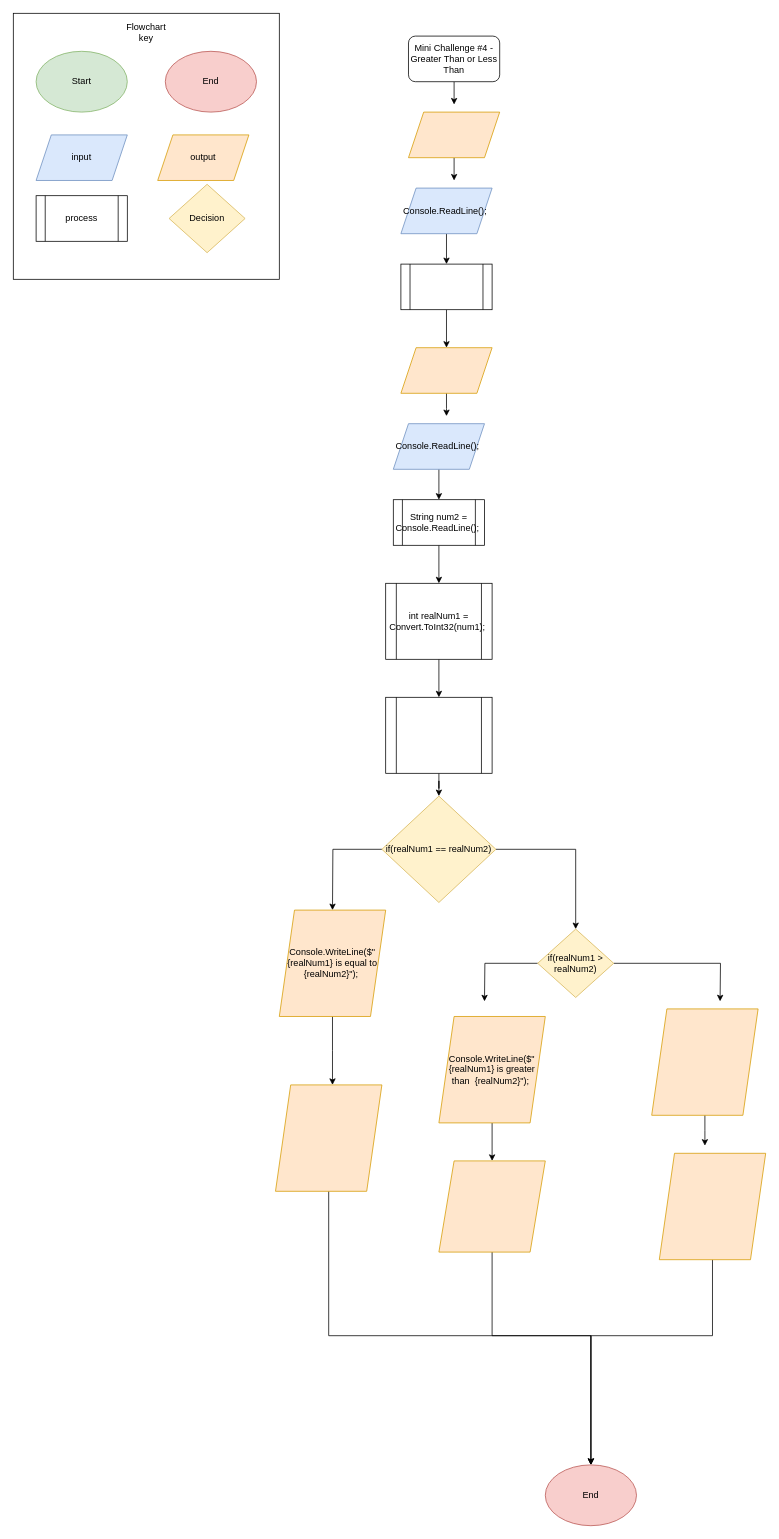
Some shapes in this 779 by 1539 pixel diagram are drawn without their labels. Here are the shapes that lost their labels. From the top down, the centre of each, then its label:
(454,134): Console.WriteLine("Enter a number");
(446,286): String num1 = Console.ReadLine();
(446,370): Console.WriteLine("Enter another number");
(438,735): int realNum2 = Convert.ToInt32(num2);
(704,1061): Console.WriteLine($"{realNum1} is less than {realNum2}");
(328,1137): Console.WriteLine($"{realNum2} is equal to {realNum1}");
(491,1206): Console.WriteLine($"{realNum2} is less than {realNum1}");
(712,1206): Console.WriteLine($"{realNum2} is greater than {realNum1}");
